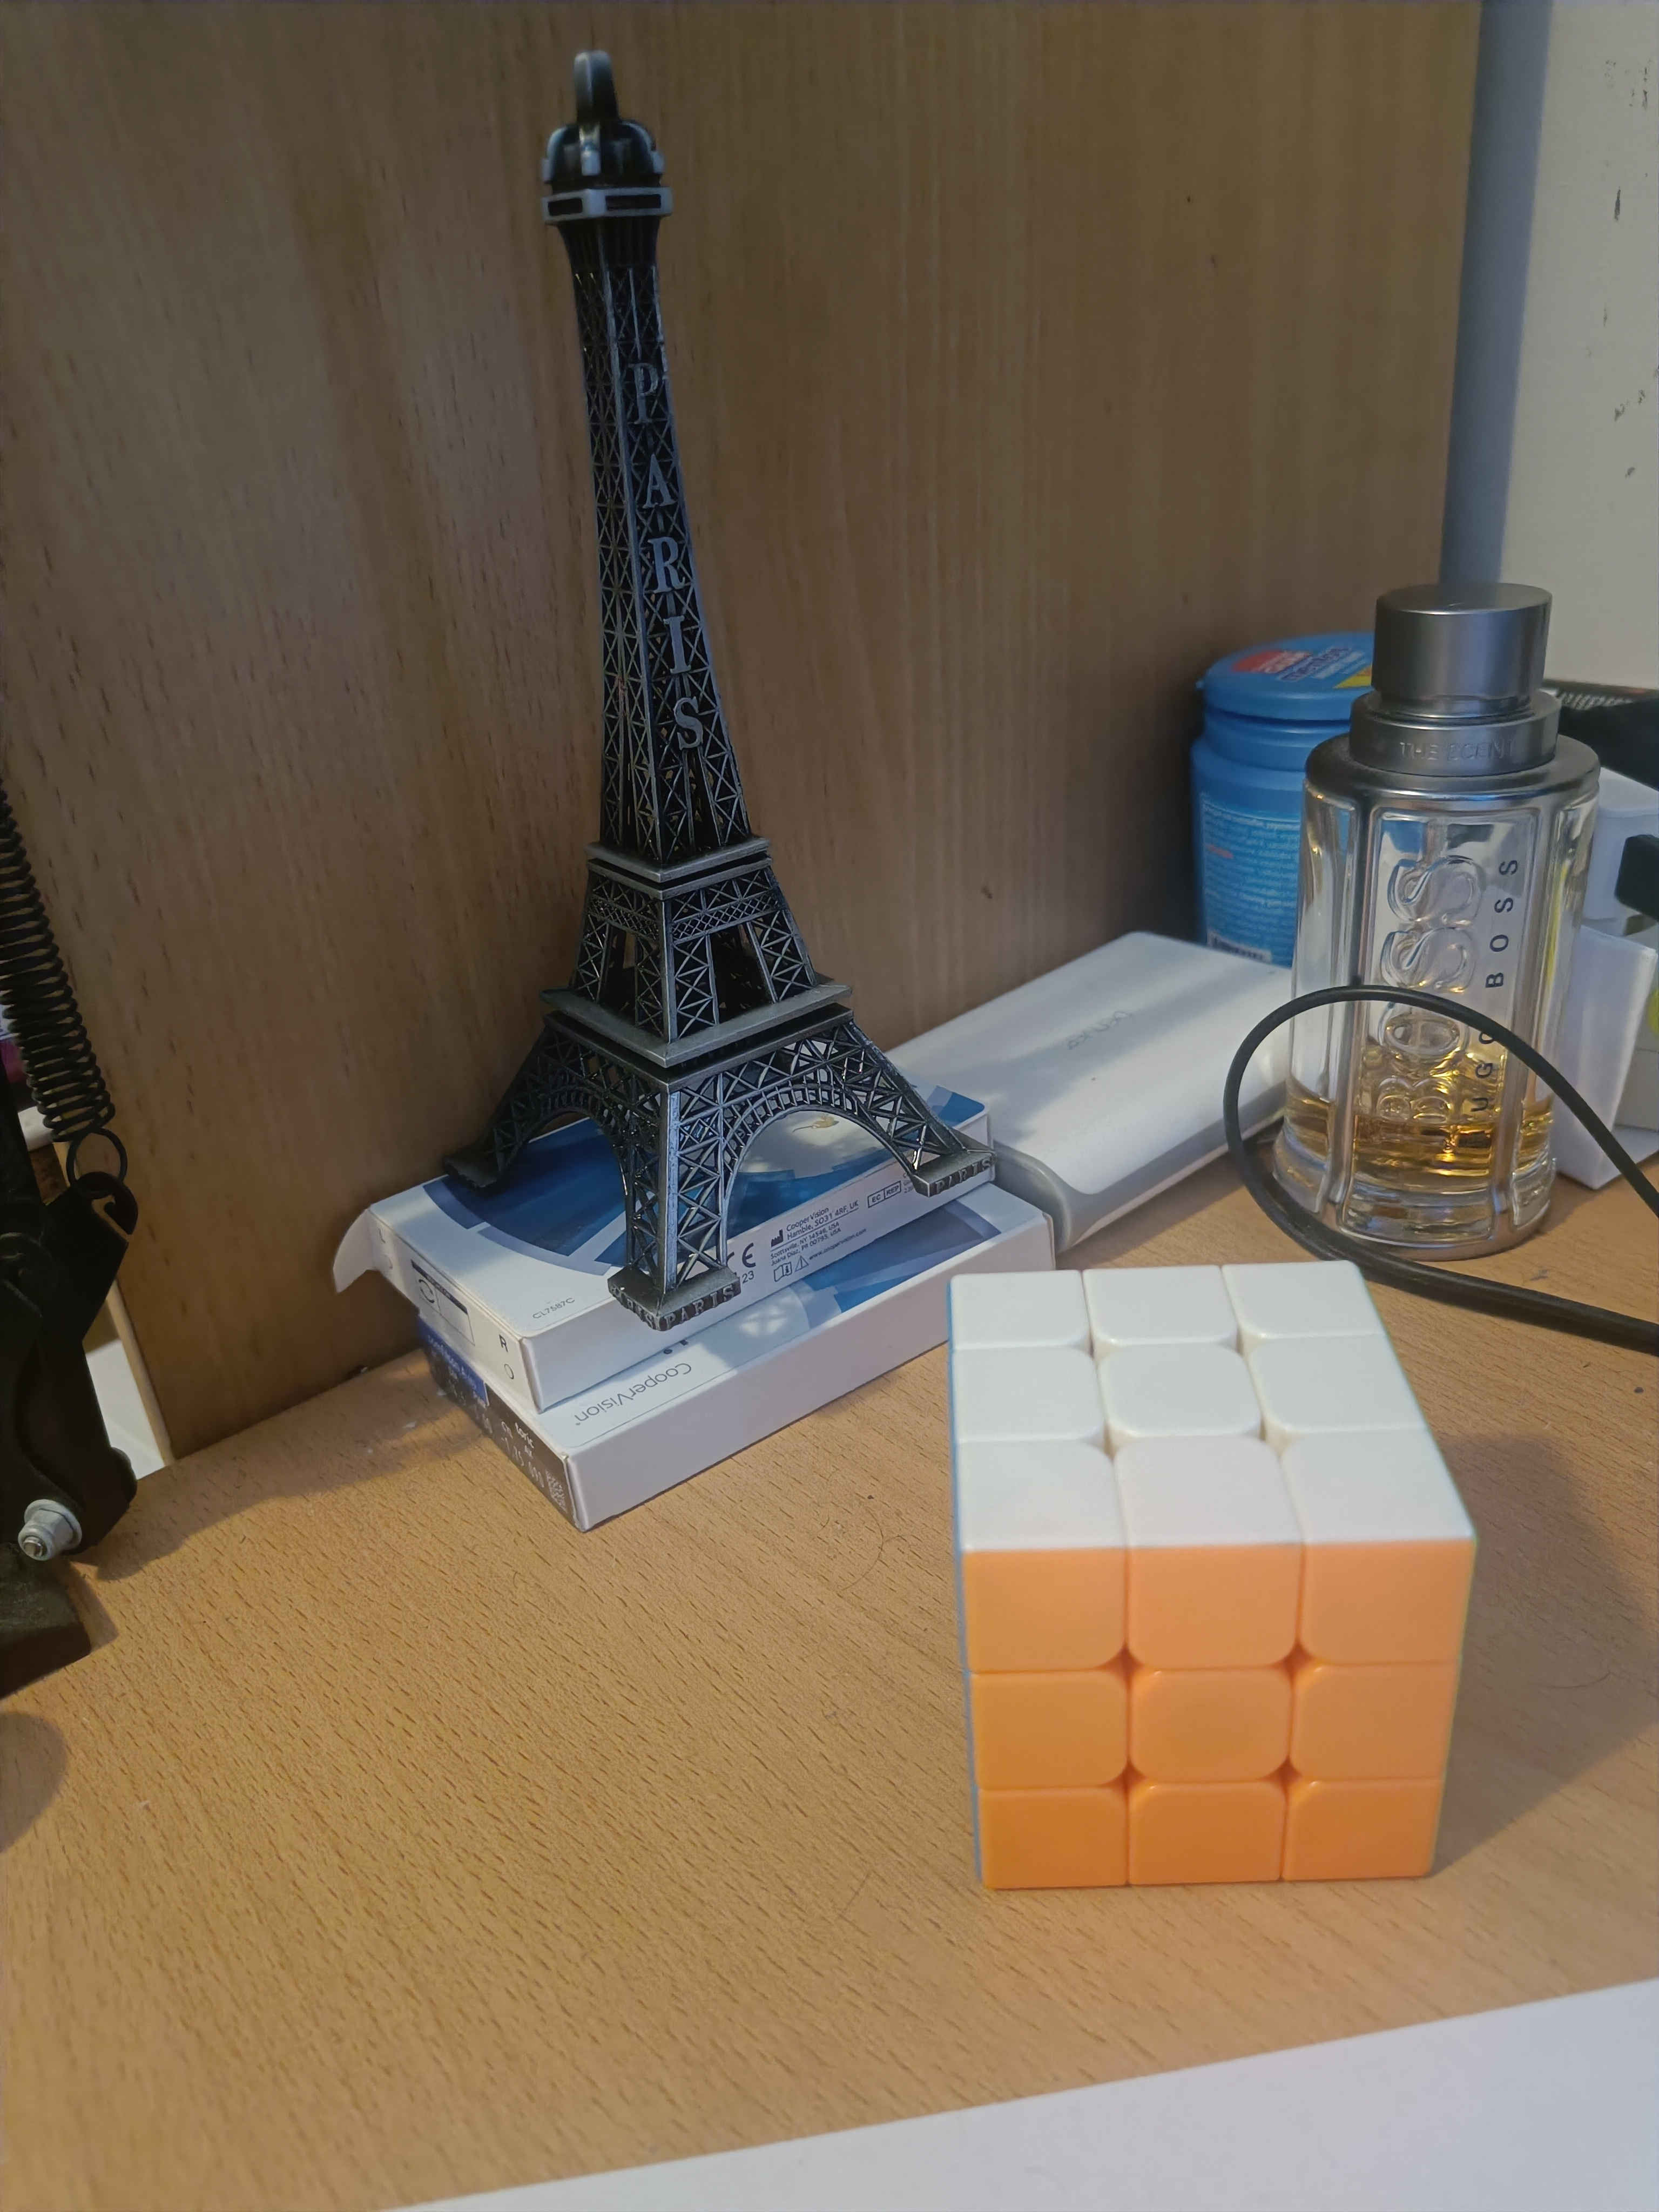Eiffel Tower: (406, 31, 994, 1343)
Rubiks Cube: (932, 1259, 1483, 1900)
